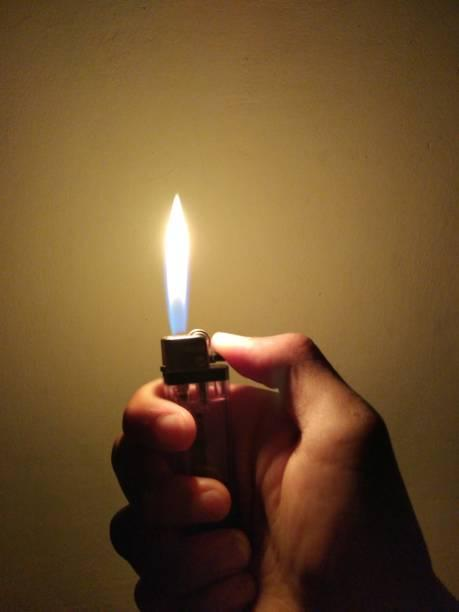Fire: (160, 188, 198, 334)
